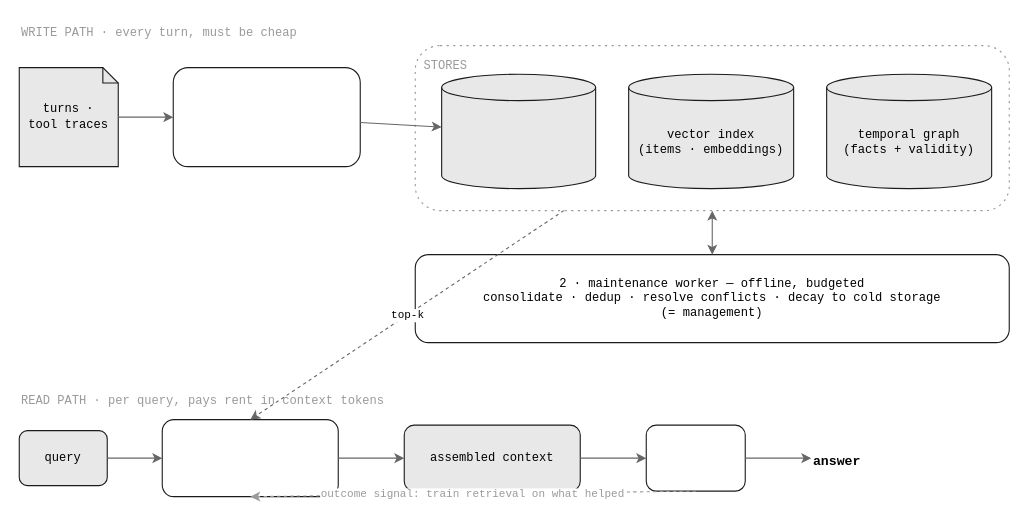
This 1029x519 diagram has some shape labels left out. Here are the shapes that lost their labels. From the top down, the centre of each, then its label:
point (266, 117): 1 · write gate extract · dedup · reject noise (= construction)
point (518, 131): raw ledger (append-only)
point (249, 458): 3 · retrieval similarity != utility (= access)
point (695, 457): LLM
